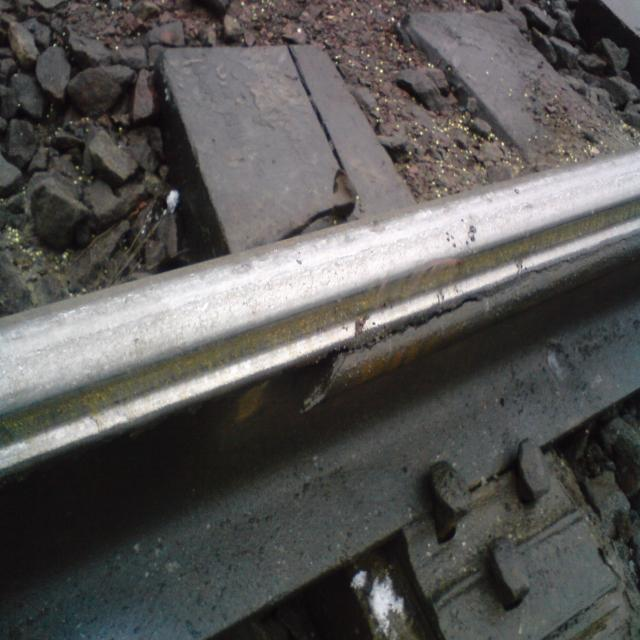squats_high: (444, 215, 477, 251), (295, 257, 303, 266), (514, 187, 519, 195)
